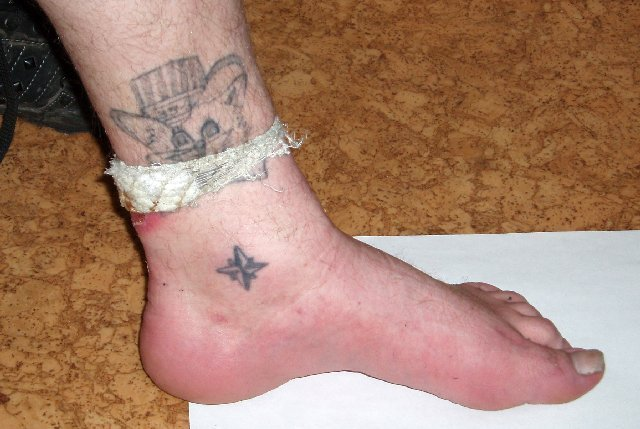tatu4_zvezda: (205, 246, 278, 296)
tatu8_kot: (97, 55, 297, 190)
